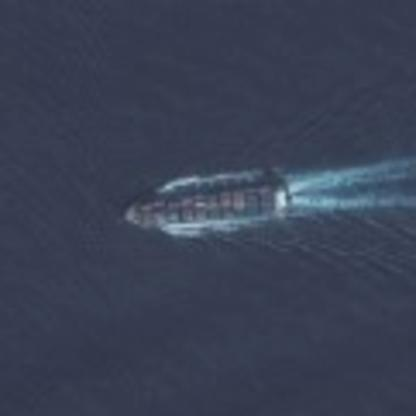ship: (118, 160, 291, 250)
